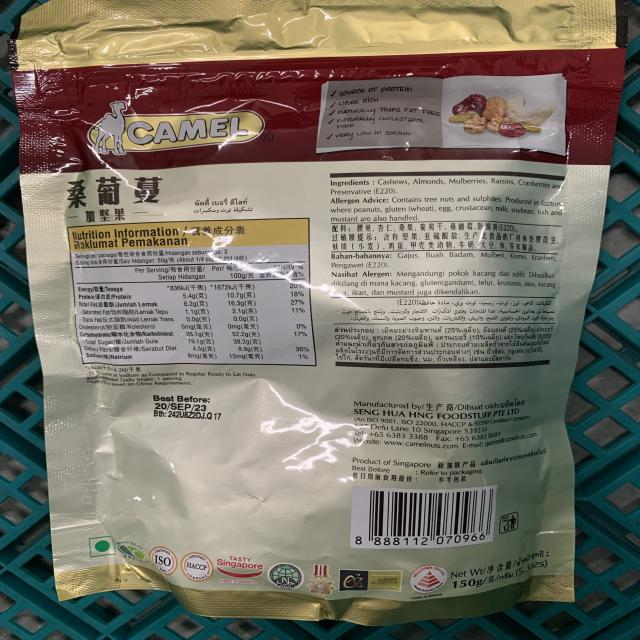object_name: (37, 8, 577, 605)
